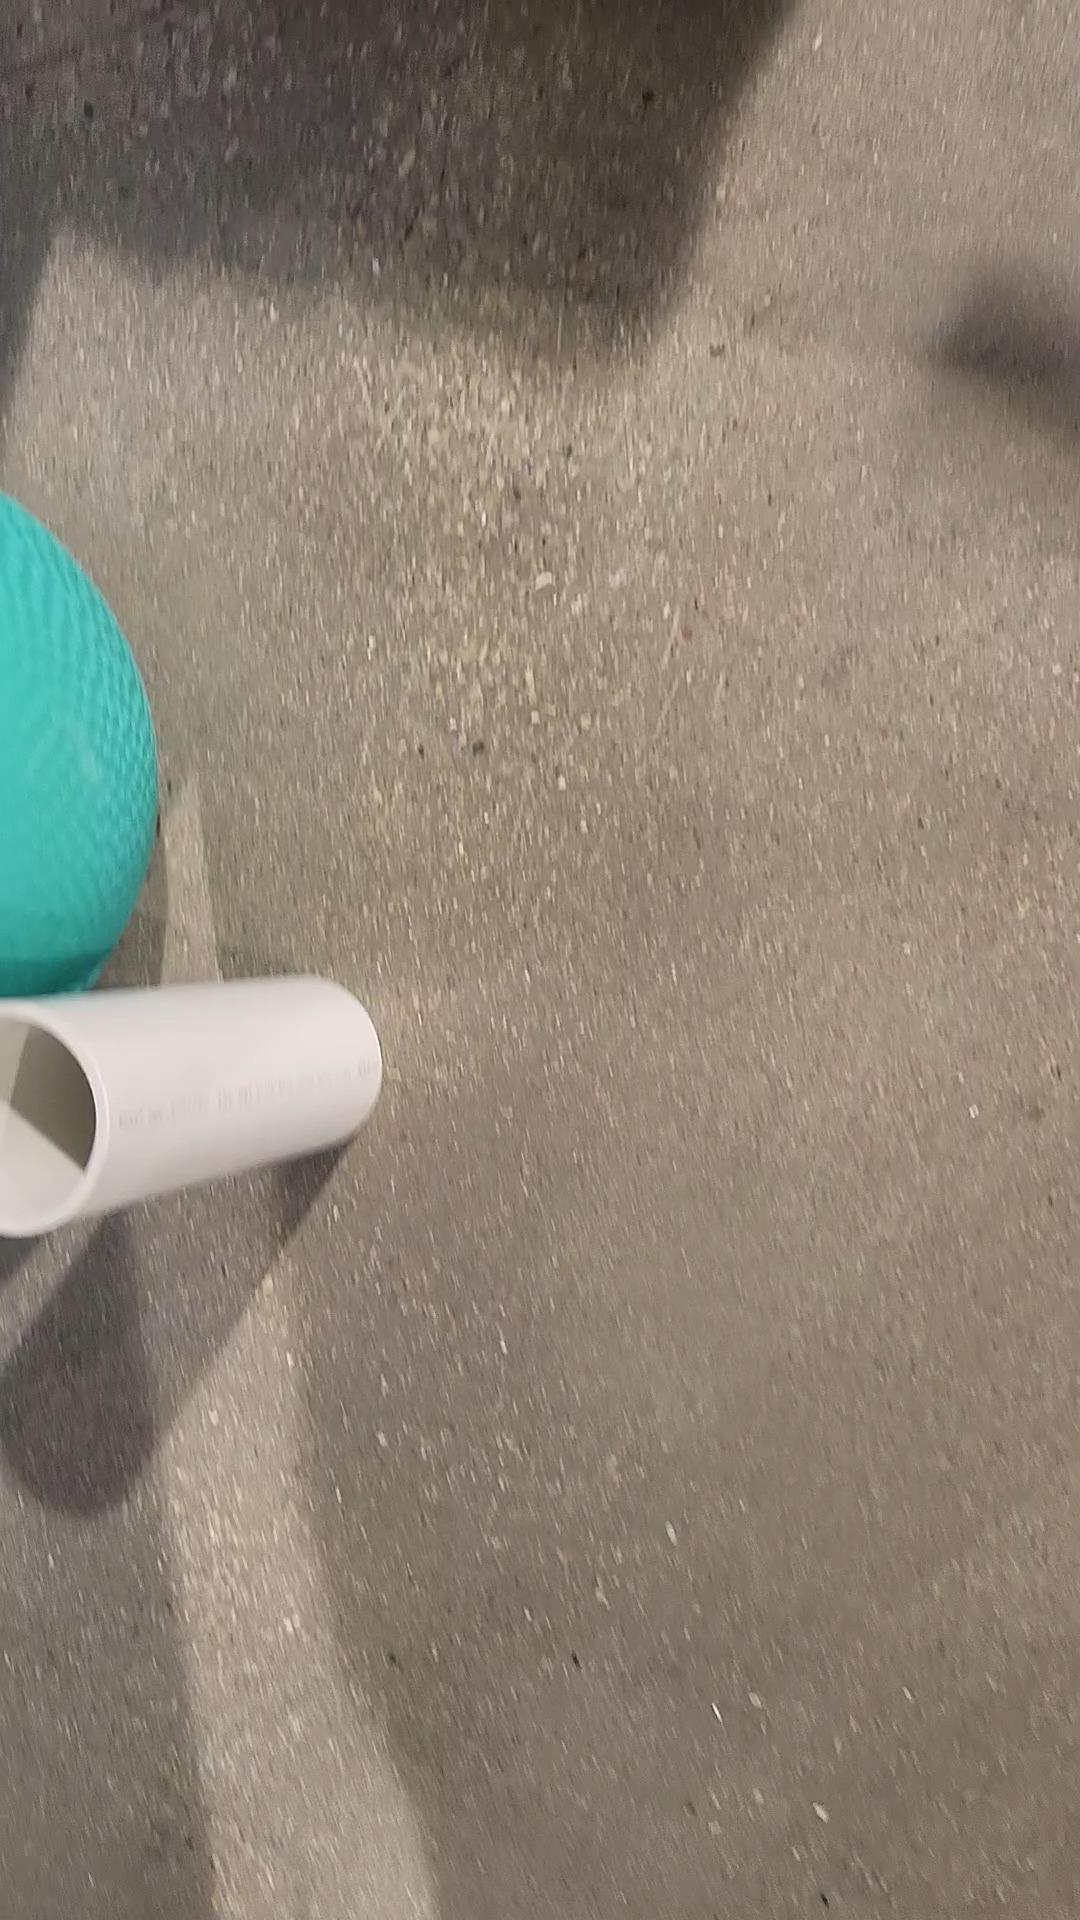algae: (0, 485, 157, 1022)
coral: (0, 975, 377, 1237)
